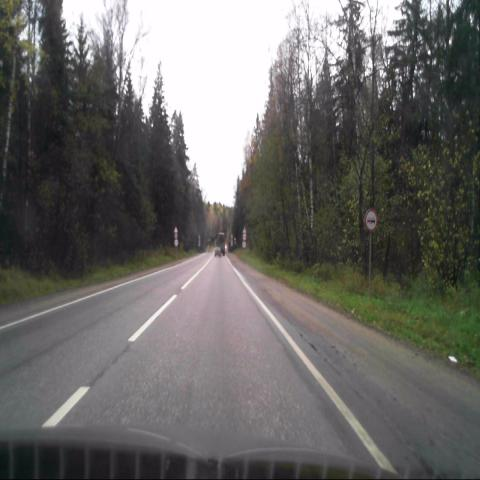3_20: (364, 210, 377, 231)
